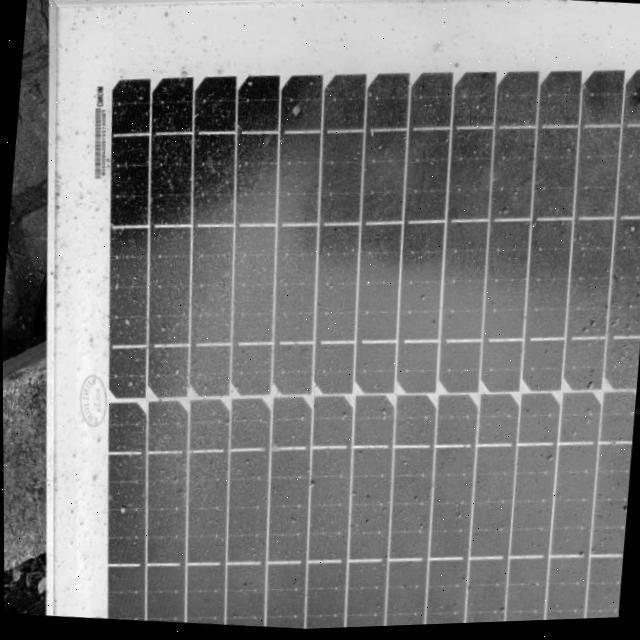Surface Contaminant: (93, 35, 640, 629)
